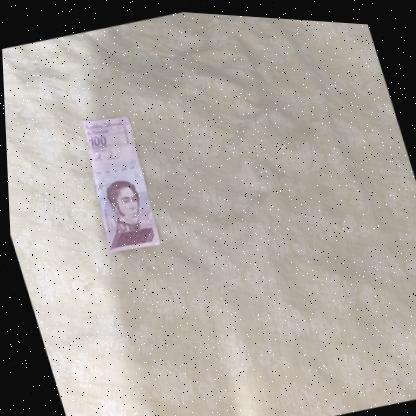one_hundred-front-vef: (67, 105, 166, 256)
